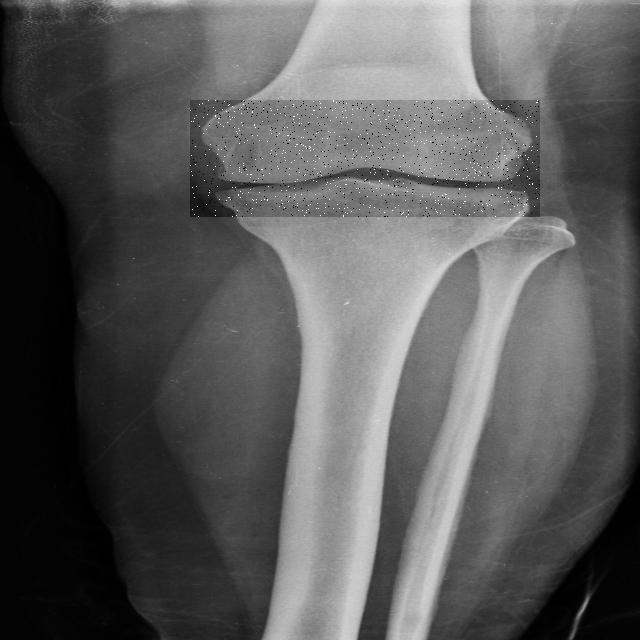normal: (190, 100, 540, 217)
